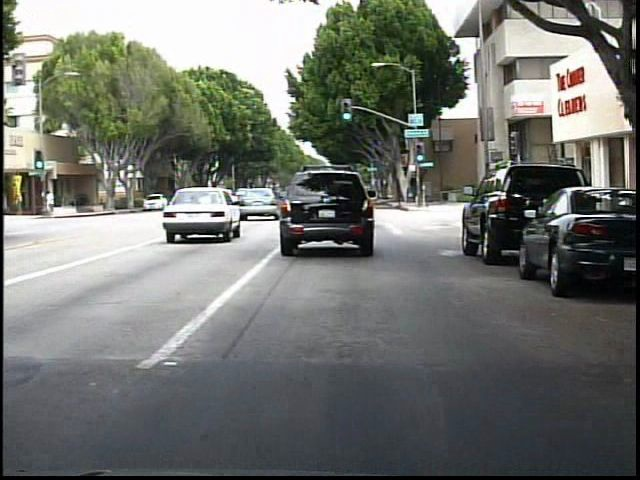person: (48, 187, 59, 217)
